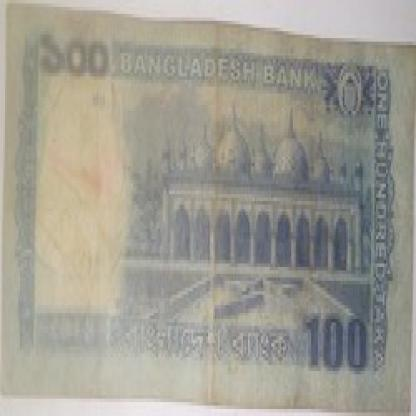one hundred taka: (34, 0, 127, 97), (300, 281, 372, 381)
